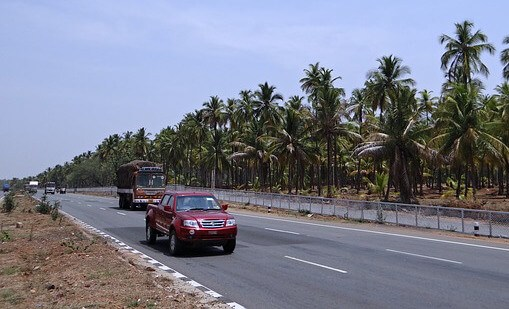car: (141, 185, 244, 267)
